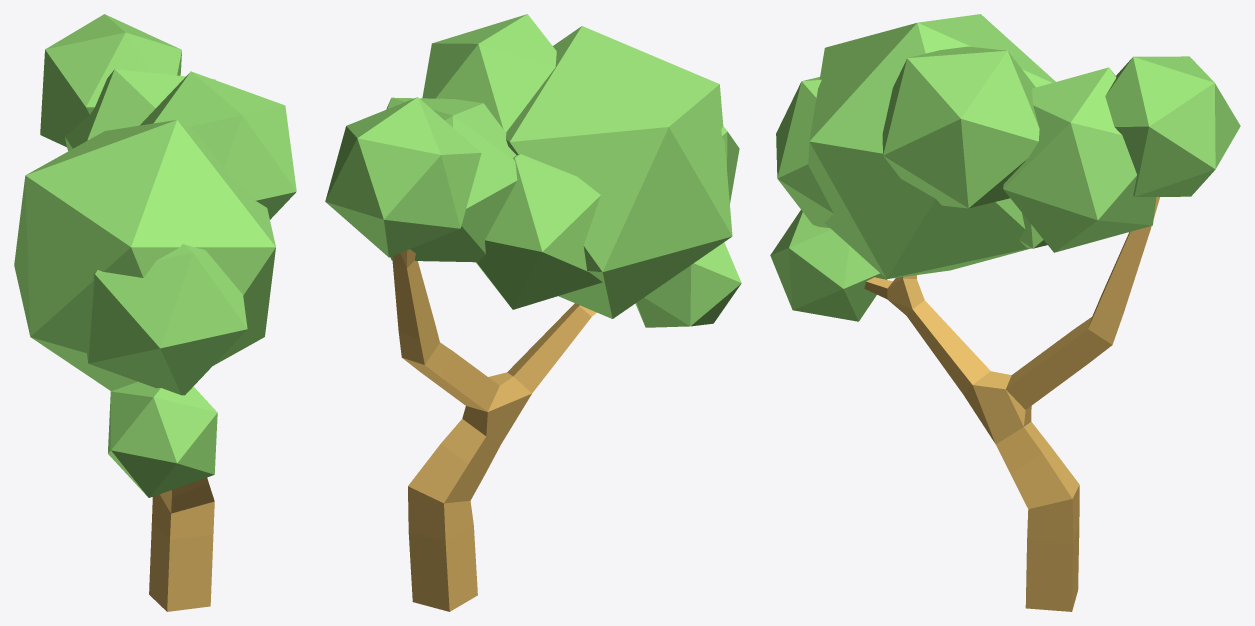
The model's file is tree2.fbx.
3 views of the same model, side by side, from view 1: azimuth 30°, elevation 25°; view 2: azimuth 150°, elevation 25°; view 3: azimuth 270°, elevation 25° (orthographic).
Visible parts, largest first — view 1: Icosphere.002, Icosphere.005, Icosphere.006, Icosphere.003, Icosphere, Cube, Icosphere.001; view 2: Icosphere.002, Cube, Icosphere, Icosphere.004, Icosphere.006, Icosphere.001, Icosphere.003, Icosphere.005; view 3: Icosphere.002, Cube, Icosphere.006, Icosphere.001, Icosphere, Icosphere.003, Icosphere.005.
Part boxes in pixels (x1=…): Icosphere.002: x1=14, y1=120, x2=275, y2=391; Icosphere.005: x1=86, y1=244, x2=247, y2=395; Icosphere.006: x1=140, y1=71, x2=296, y2=219; Icosphere.003: x1=108, y1=381, x2=217, y2=497; Icosphere: x1=40, y1=14, x2=181, y2=147; Cube: x1=149, y1=477, x2=214, y2=611; Icosphere.001: x1=65, y1=69, x2=215, y2=151; Icosphere.002: x1=506, y1=26, x2=732, y2=318; Cube: x1=392, y1=249, x2=596, y2=611; Icosphere: x1=325, y1=97, x2=481, y2=257; Icosphere.004: x1=476, y1=154, x2=602, y2=309; Icosphere.006: x1=422, y1=14, x2=556, y2=131; Icosphere.001: x1=386, y1=97, x2=517, y2=262; Icosphere.003: x1=635, y1=242, x2=741, y2=327; Icosphere.005: x1=721, y1=126, x2=739, y2=203; Icosphere.002: x1=808, y1=14, x2=1055, y2=278; Cube: x1=864, y1=197, x2=1159, y2=611; Icosphere.006: x1=882, y1=46, x2=1039, y2=208; Icosphere.001: x1=1003, y1=67, x2=1156, y2=252; Icosphere: x1=1105, y1=56, x2=1240, y2=196; Icosphere.003: x1=770, y1=210, x2=887, y2=321; Icosphere.005: x1=776, y1=77, x2=833, y2=227.
Size of the model in its own units: 402 by 729 by 570.
